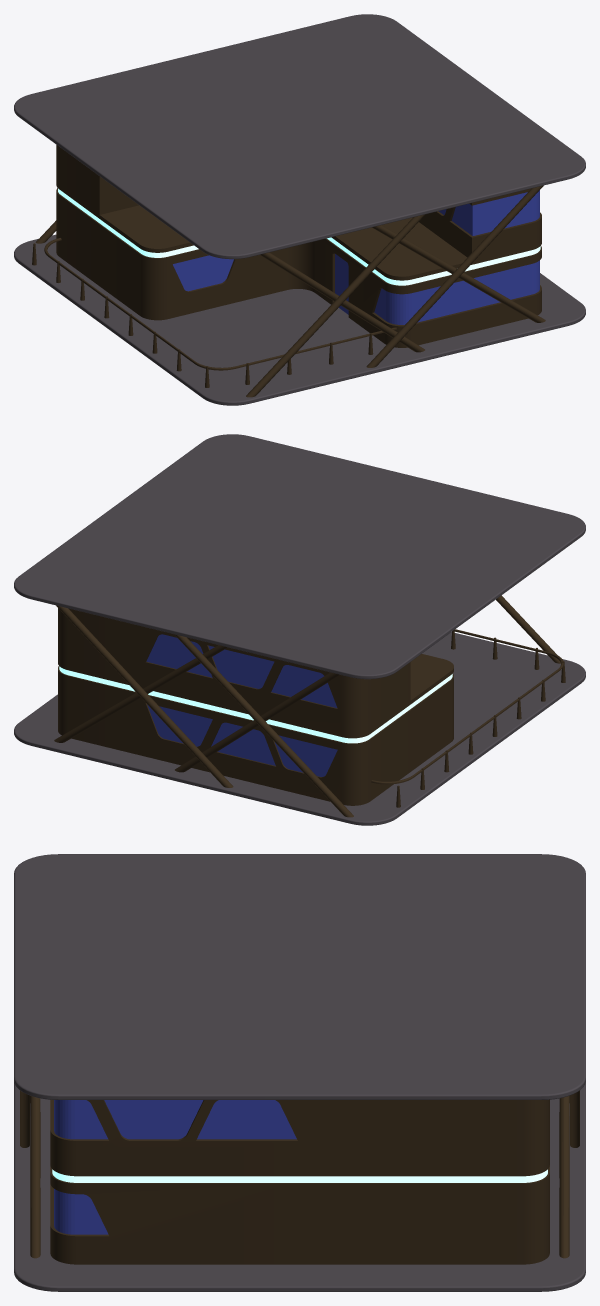
The model's file is SM_B_i0_mid_floor.fbx.
3 renders of one model, top to bottom at view 1: azimuth 30°, elevation 25°; view 2: azimuth 150°, elevation 25°; view 3: azimuth 270°, elevation 25°, orthographic. The views are drawn at different scales.
Visible parts, largest first — view 1: Bild0_mid_floor; view 2: Bild0_mid_floor; view 3: Bild0_mid_floor.
Part boxes in pixels (left/top/right/bottom): Bild0_mid_floor: left=14, top=14, right=585, bottom=405; Bild0_mid_floor: left=14, top=434, right=585, bottom=825; Bild0_mid_floor: left=14, top=854, right=585, bottom=1291.
Bounding box in the file's own units: 1840 × 699 × 1840.
